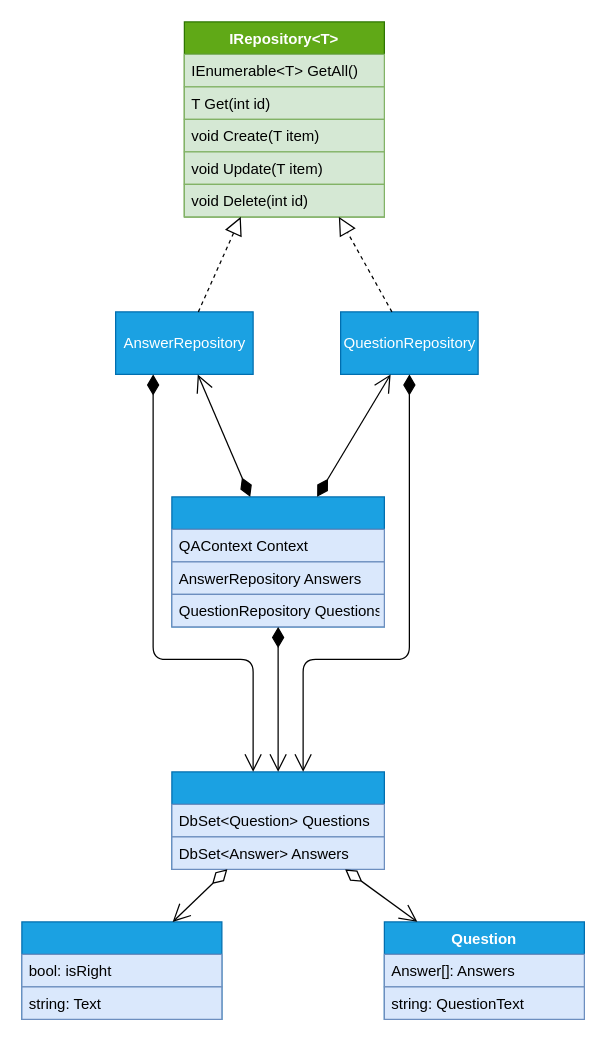
Image size: 606x1045. Some labels were removed from this diagram. The shapes that lost their labels are listed below. From the top down, each one's box as (x1, y1, x2, y2) in pixels, then its label:
(171, 496, 384, 627): UnitOfWork
(171, 771, 384, 869): QAContext
(21, 921, 222, 1019): Answer
